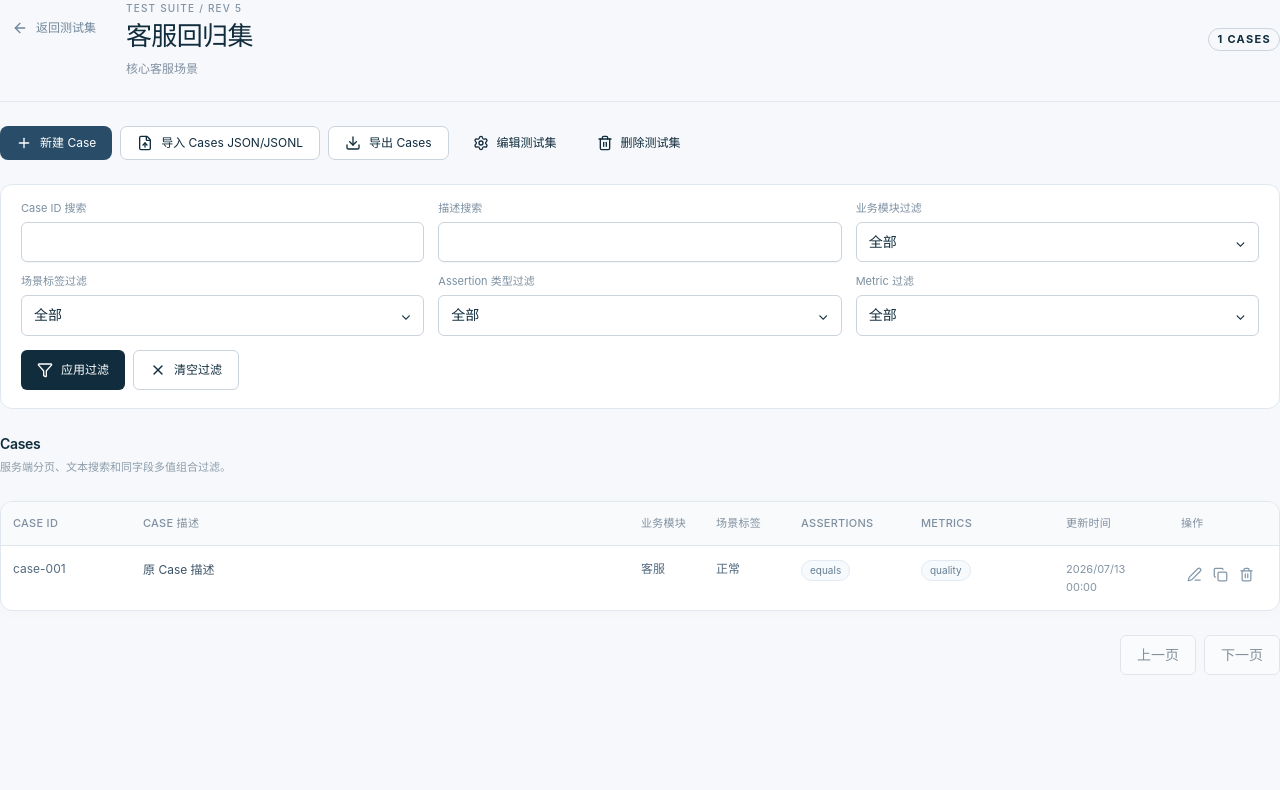
Test: 测试集详情页 Case 资源写操作 › Case 409 后刷新最新 Suite 失败时收敛为页面错误并保留创建 Draft
Click the button "新建 Case" at (56, 143), box [0,126,112,160]
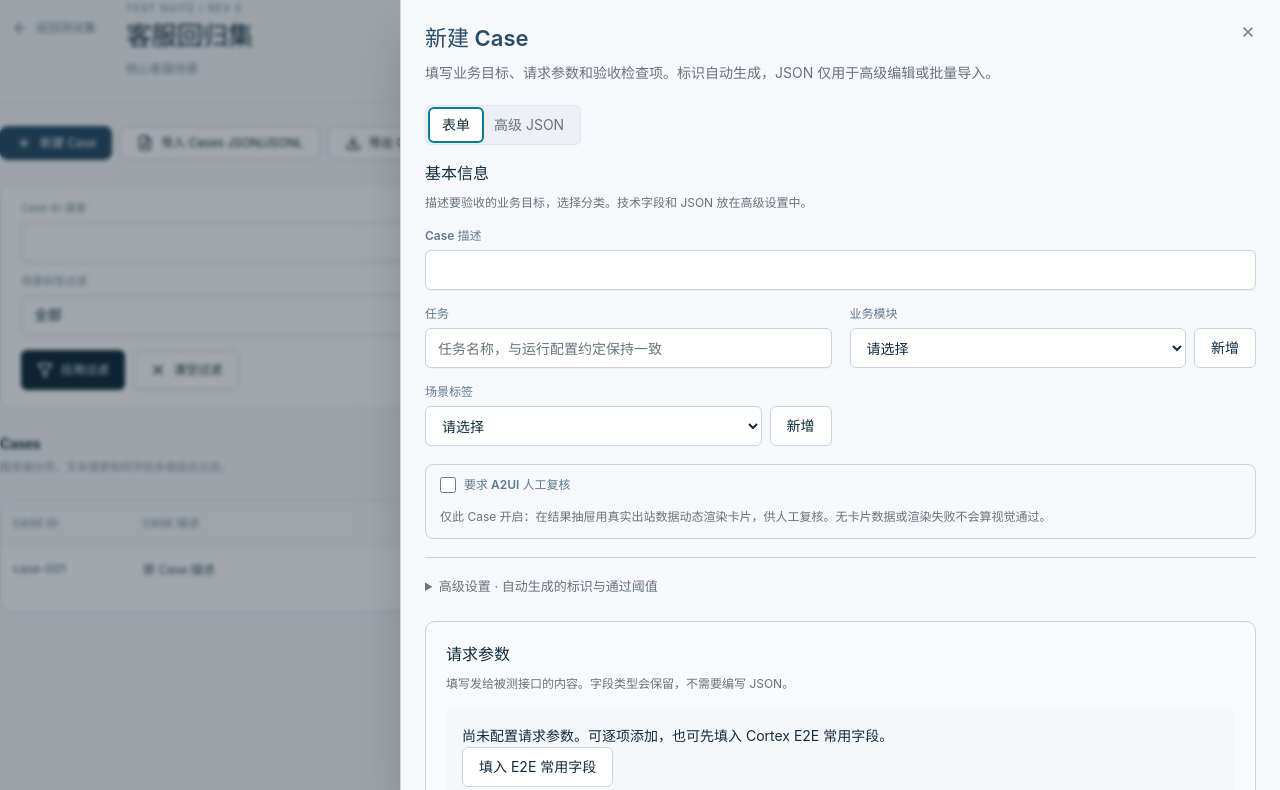
Type "确认实际输出字段存在" into the field labelled "Case 描述" at (840, 270), box [425,250,1256,290]
Type "agent-e2e" into the field labelled "任务" at (628, 348), box [425,328,832,368]
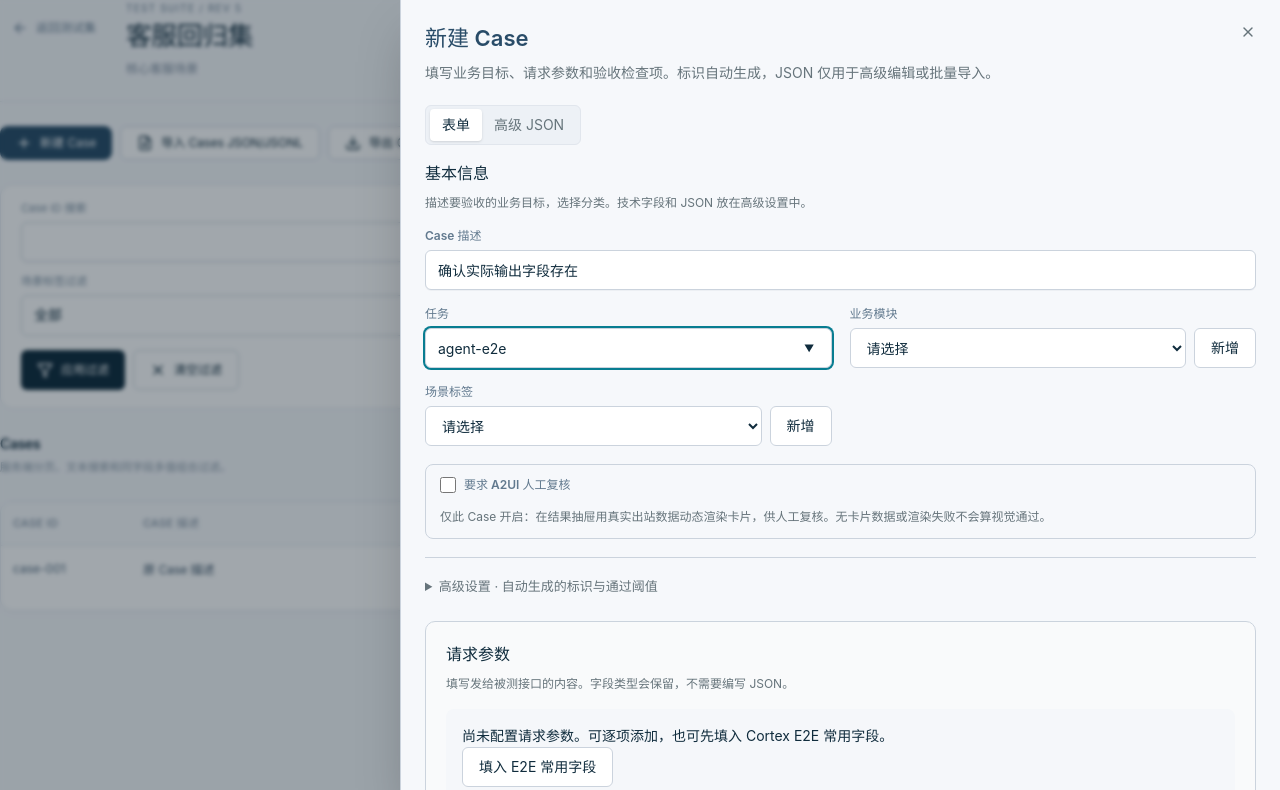
Select "客服" in the dropdown named "业务模块" at (1018, 348), box [850,328,1186,368]
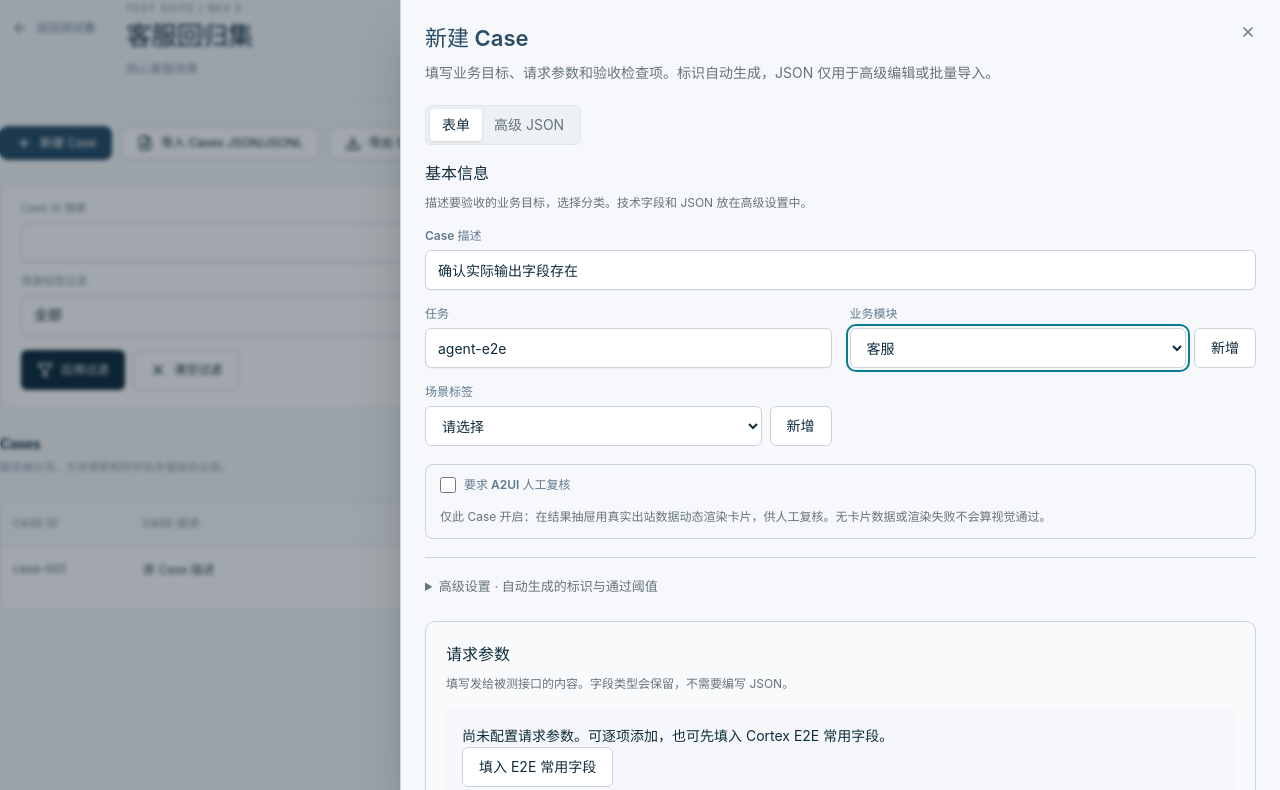
Select "正常" in the dropdown named "场景标签" at (593, 426), box [425,406,762,446]
(page scrolled)
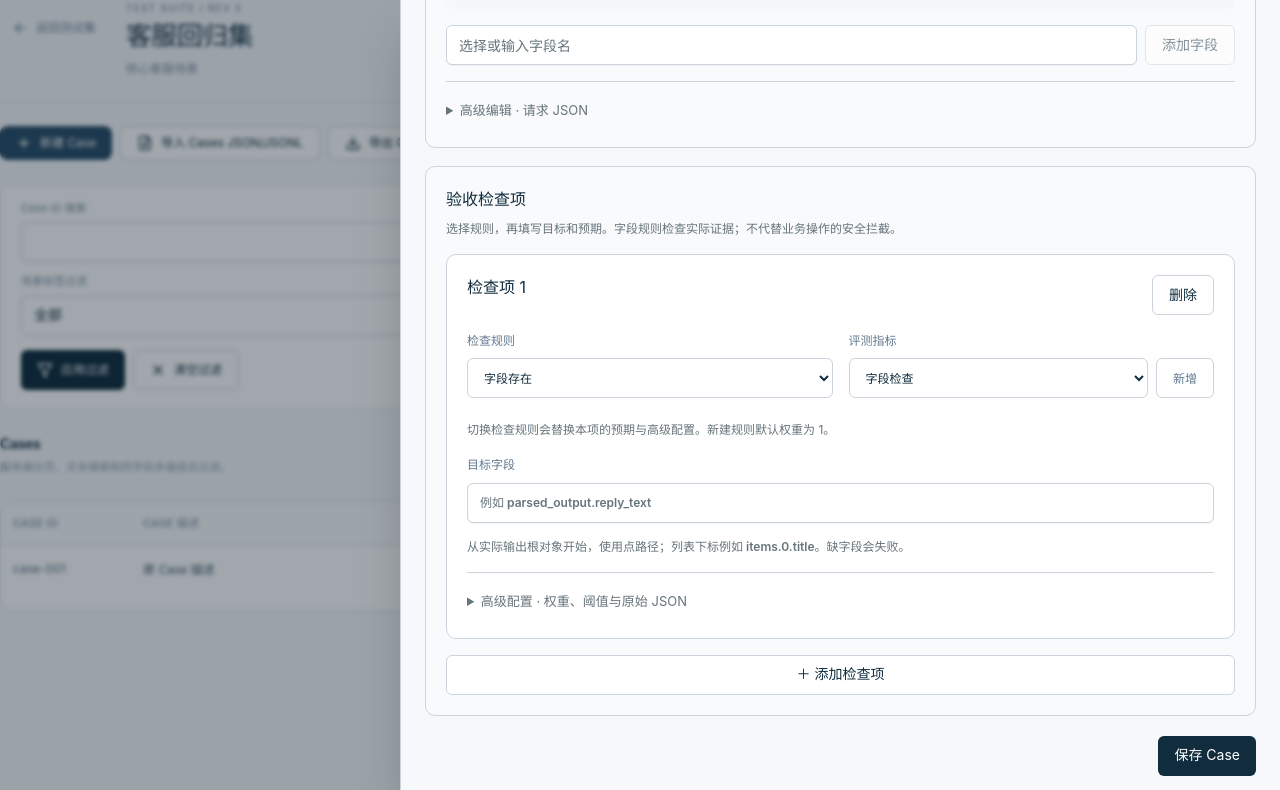
Type "parsed_output" into the field named "目标字段 1" at (840, 503), box [467,483,1214,523]
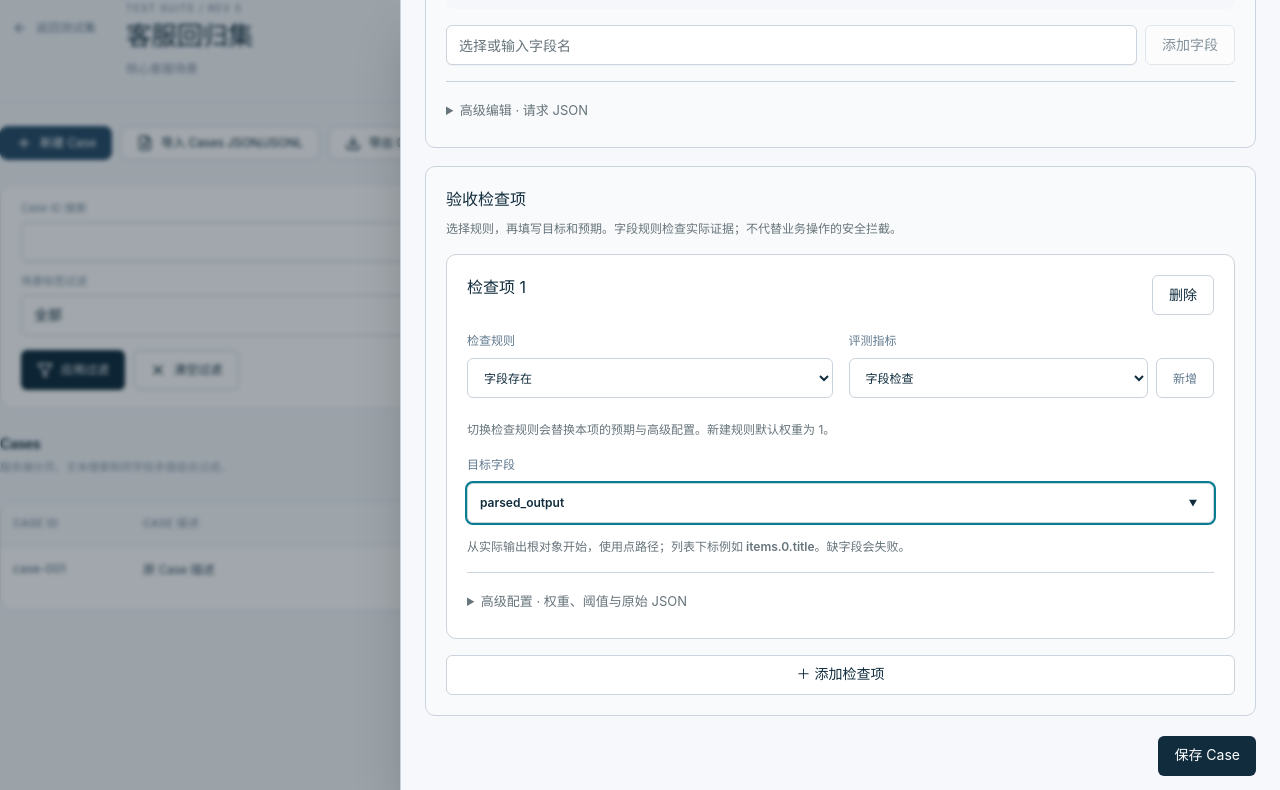
Click the button "保存 Case" at (1207, 756), box [1158,736,1256,776]
(page scrolled)
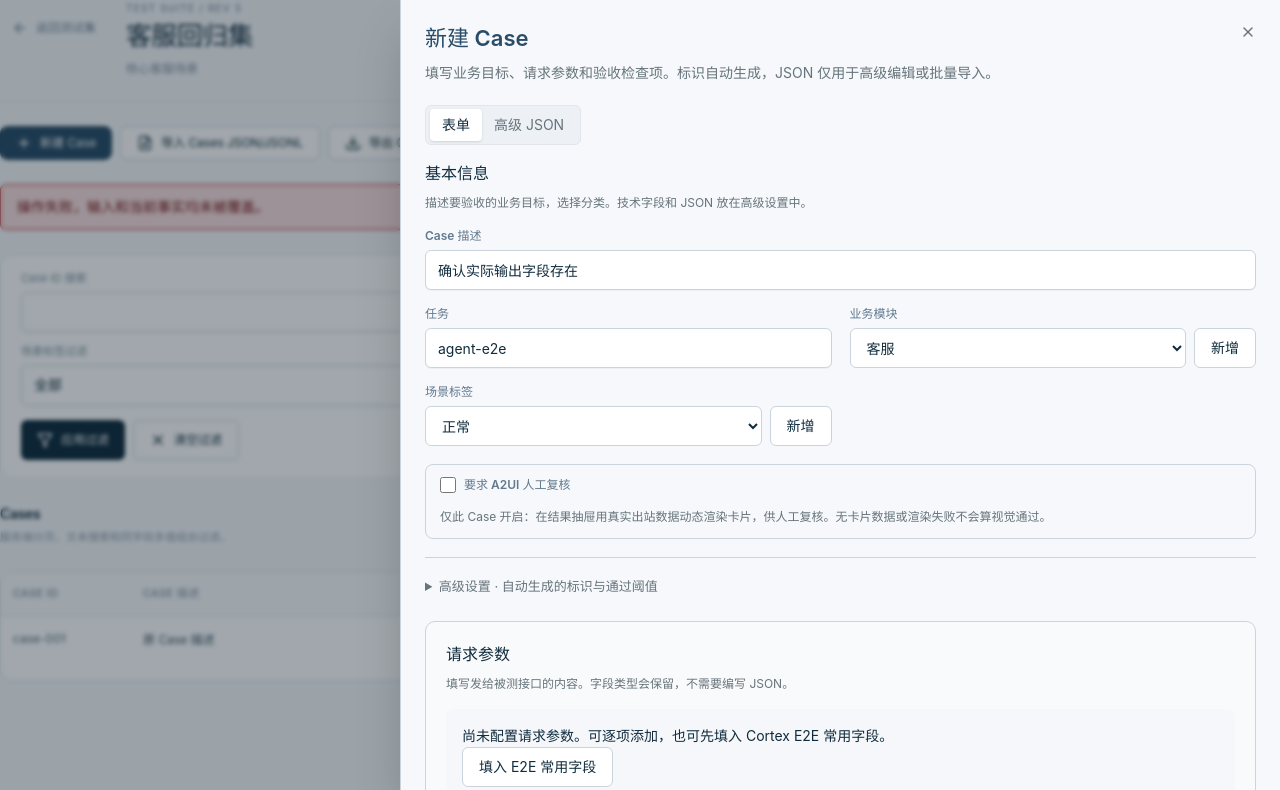
Now the text "操作失败，输入和当前事实均未被覆盖。" is shown, box [17,198,269,215]
Now the heading "新建 Case" is shown, box [425,25,528,51]
